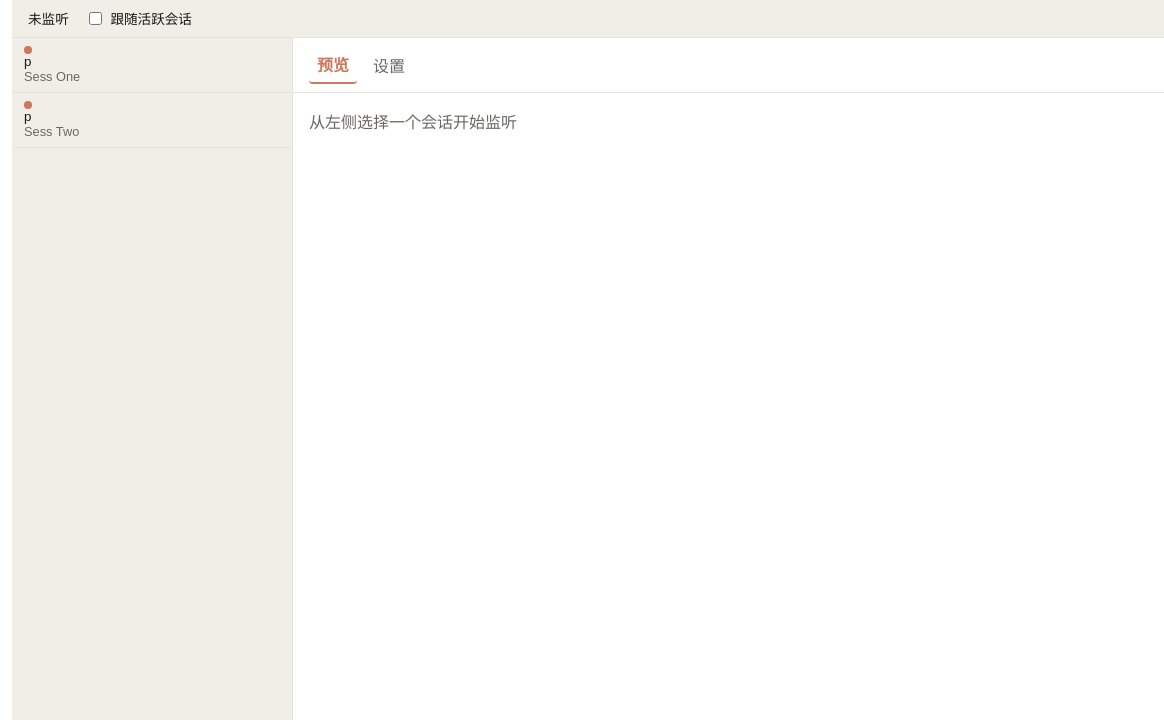
Test: App session switch race (PLAN.md 12.2.1 问题③) › does not display a stale snapshot for a different session, and recovers on the next session:updated
This screenshot has width=1164, height=720.
Step 1. Click the text "Sess Two" → coordinates (52, 132), box [24,124,79,139]
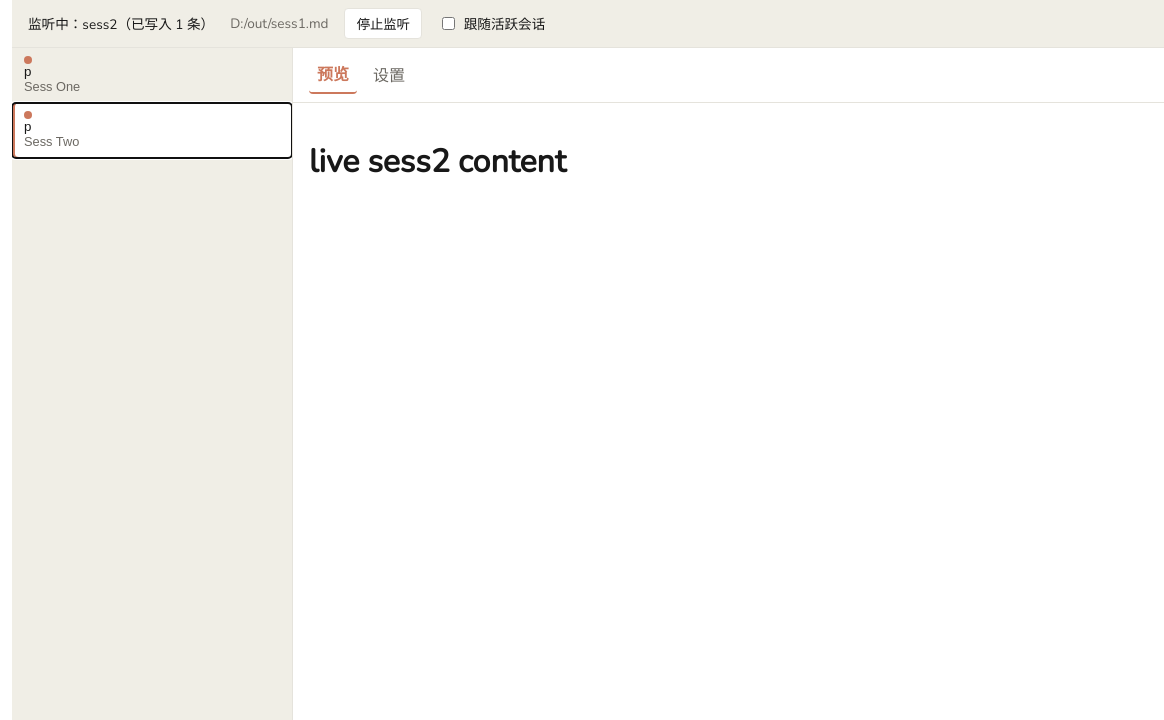
Now the heading "live sess2 content" is shown, box [309,140,566,183]
